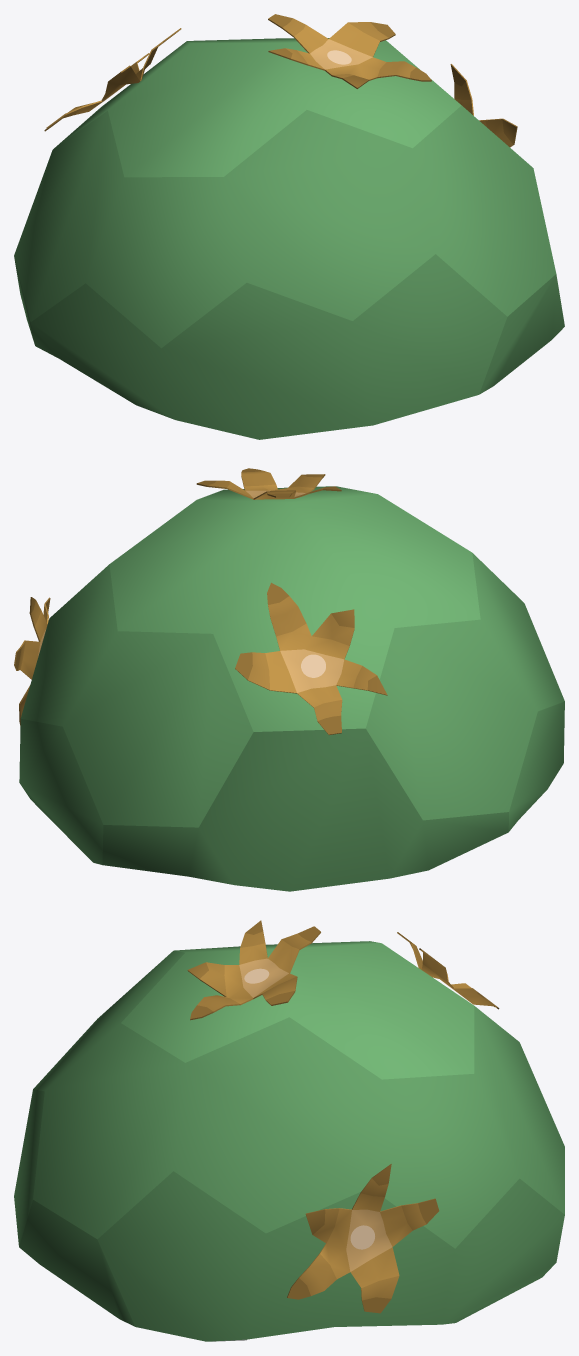
File: orangebushallNEW.fbx
3 views of the same model, one above another, from view 1: azimuth 30°, elevation 25°; view 2: azimuth 150°, elevation 25°; view 3: azimuth 270°, elevation 25° (orthographic).
Visible parts, largest first — view 1: pSolid1, pasted__pDisc2 (×2), pDisc2; view 2: pSolid1, pDisc2, pasted__pDisc2 (×2); view 3: pSolid1, pasted__pDisc2 (×2), pDisc2.
Part boxes in pixels (<box>): pSolid1: <box>14,38,564,439</box>; pasted__pDisc2 (×2): <box>268,14,517,147</box>; pDisc2: <box>44,28,181,131</box>; pSolid1: <box>19,486,564,891</box>; pDisc2: <box>235,582,387,734</box>; pasted__pDisc2 (×2): <box>14,468,341,725</box>; pSolid1: <box>14,941,564,1341</box>; pasted__pDisc2 (×2): <box>187,920,439,1313</box>; pDisc2: <box>397,932,499,1009</box>.
Bounding box in the file's own units: 2.01 × 1.21 × 1.95.
